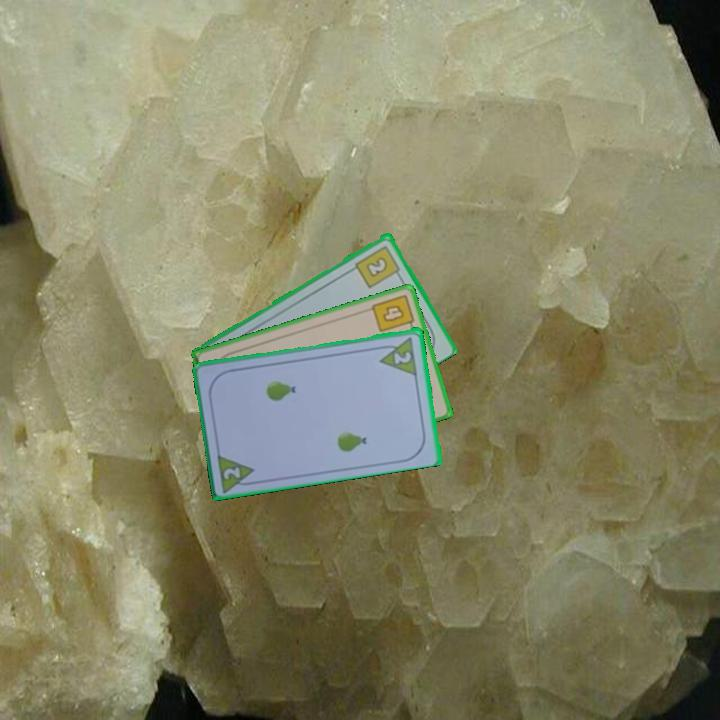2b: (352, 242, 404, 291)
2p: (214, 449, 260, 494), (390, 348, 414, 367)
4b: (368, 290, 417, 335)
